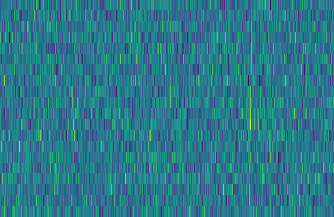signal: (245, 0, 257, 217)
